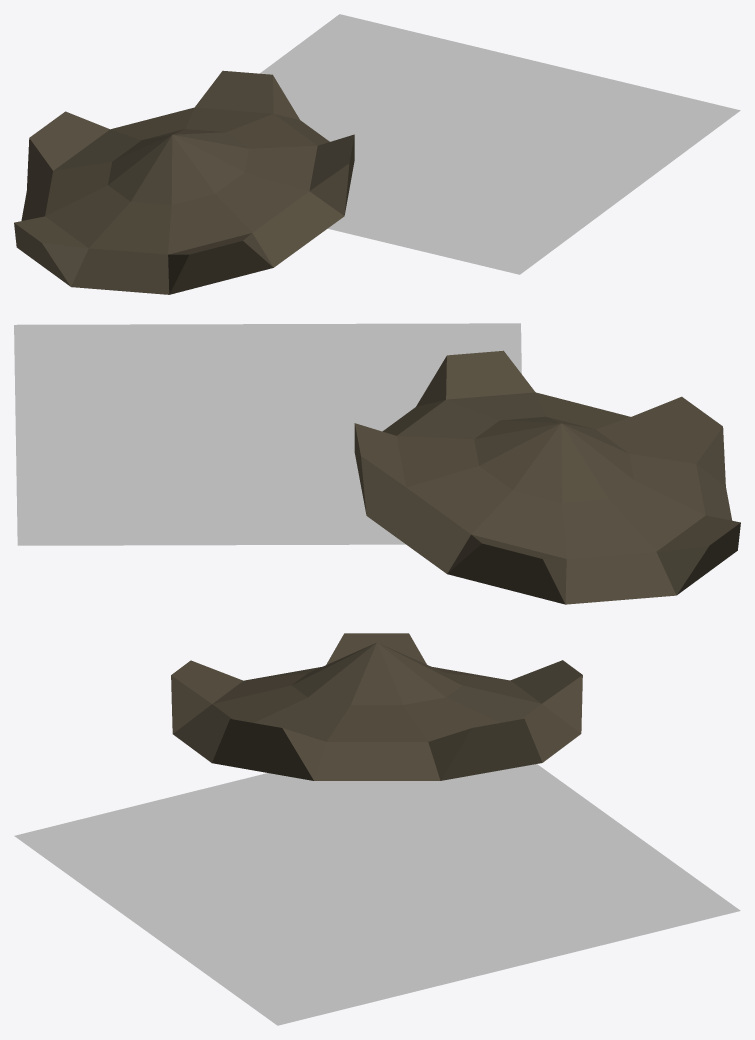
File: ITMI_INNOSEYE_MIS.OBJ
The picture shows the model from 3 angles, top to bottom: view 1: azimuth 30°, elevation 25°; view 2: azimuth 150°, elevation 25°; view 3: azimuth 270°, elevation 25°; orthographic projection. The views are drawn at different scales.
Parts seen in each view (by area): view 1: ITMI_INNOSEYE_MIS; view 2: ITMI_INNOSEYE_MIS; view 3: ITMI_INNOSEYE_MIS.
Boxes of the visible parts, x1,y1,x2,y2 form: ITMI_INNOSEYE_MIS: (14,14,740,294); ITMI_INNOSEYE_MIS: (14,323,740,604); ITMI_INNOSEYE_MIS: (14,633,740,1025).
Size of the model in its own units: 0.1878 by 0.027 by 0.1515.
